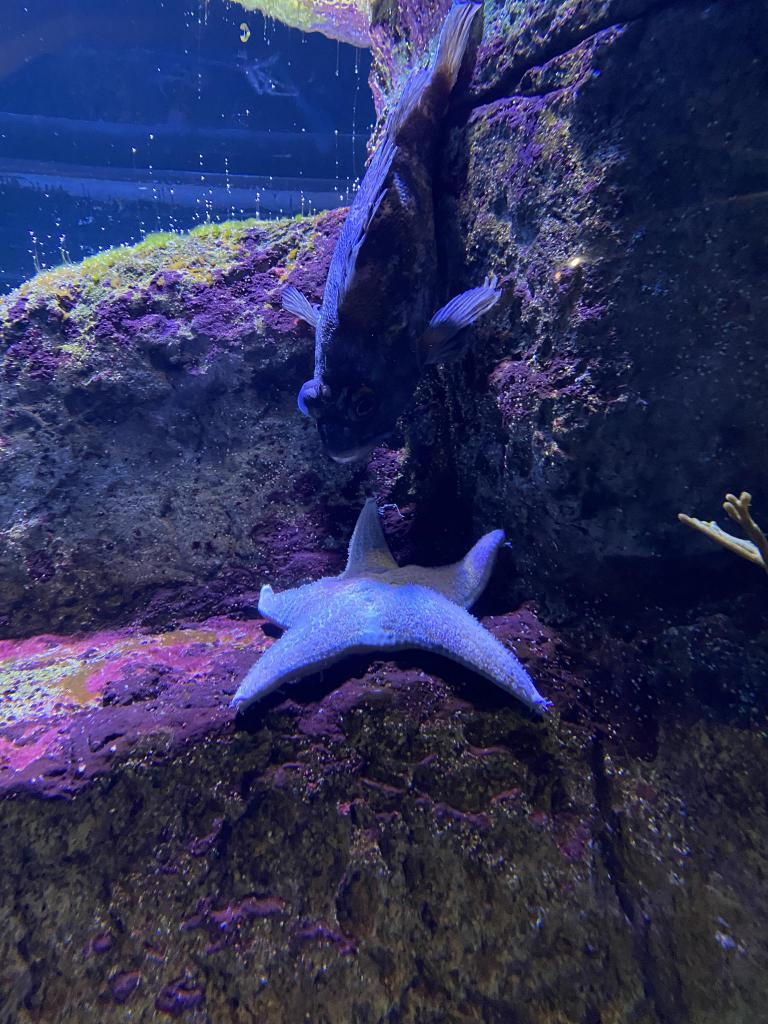fish: (282, 0, 498, 466)
starfish: (234, 498, 552, 718)
